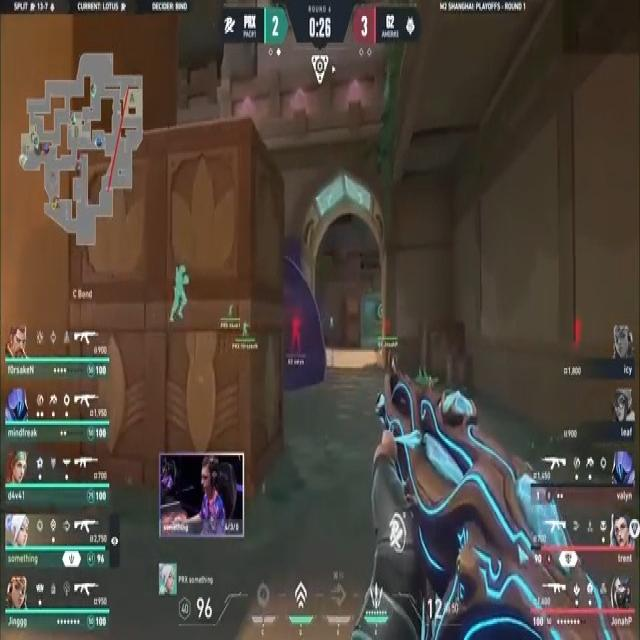ally behind wall: (170, 260, 192, 327)
